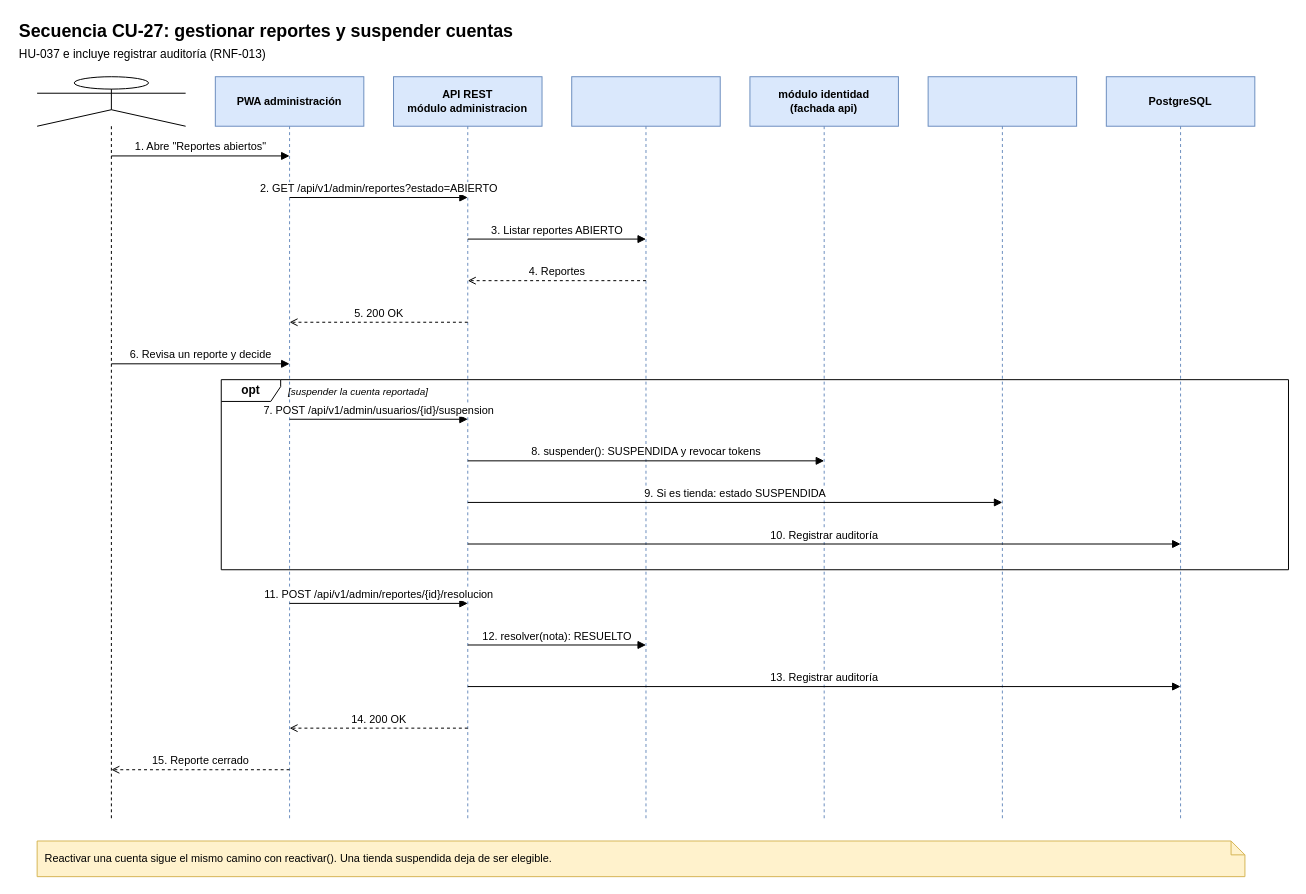
Some shapes in this 1306 by 894 pixel diagram are drawn without their labels. The shapes that lost their labels are listed below. From the top down, each one's box as (x1, y1, x2, y2) in pixels, then its label:
(36, 76, 186, 821): Administrador
(571, 76, 720, 821): módulo reputacion (fachada api)
(927, 76, 1077, 821): módulo tiendas (fachada api)
